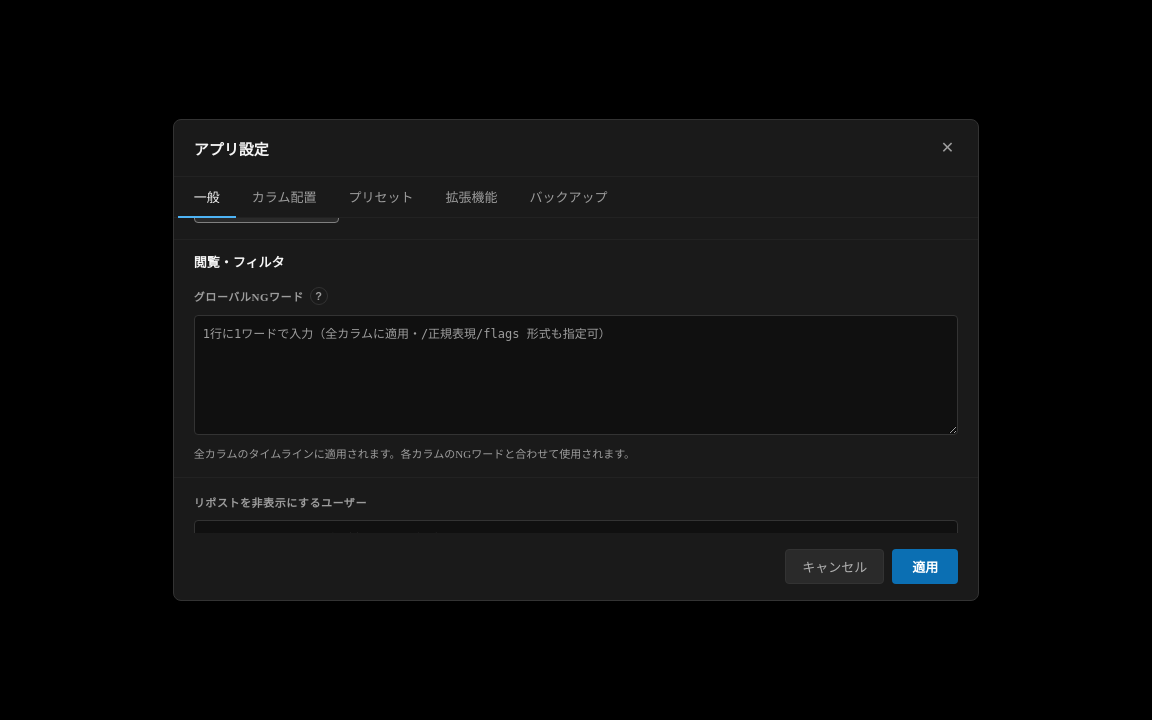
Test: AppSettingsPanel グローバルNGワード › 不正な正規表現を入力して適用すると、エラーメッセージが表示されonApplyもonCloseも呼ばれない
(page scrolled)
Type "/[ [/" into the text box with placeholder "1行に1ワードで入力（全カラムに適用・/正規表現/flags 形式も指定可）".
click(576, 375); type("/[ [/")  # box top-left (194, 315), bottom-right (958, 435)
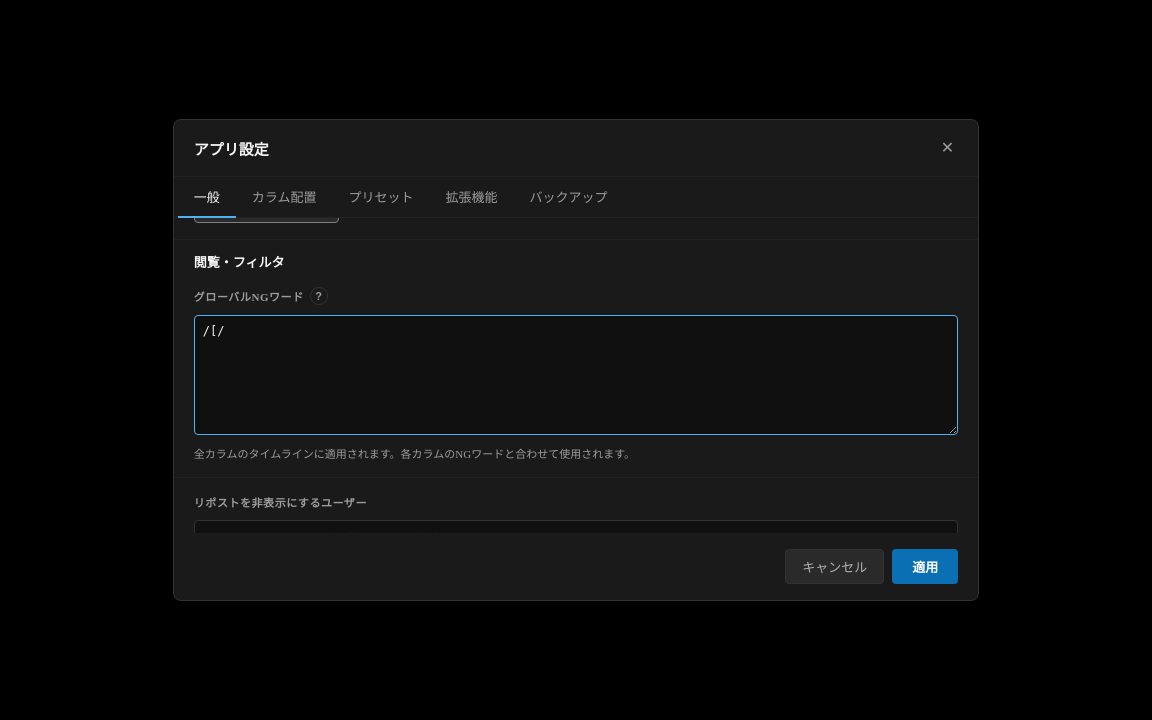
Click the button "適用".
click(925, 566)  # box top-left (892, 549), bottom-right (958, 584)
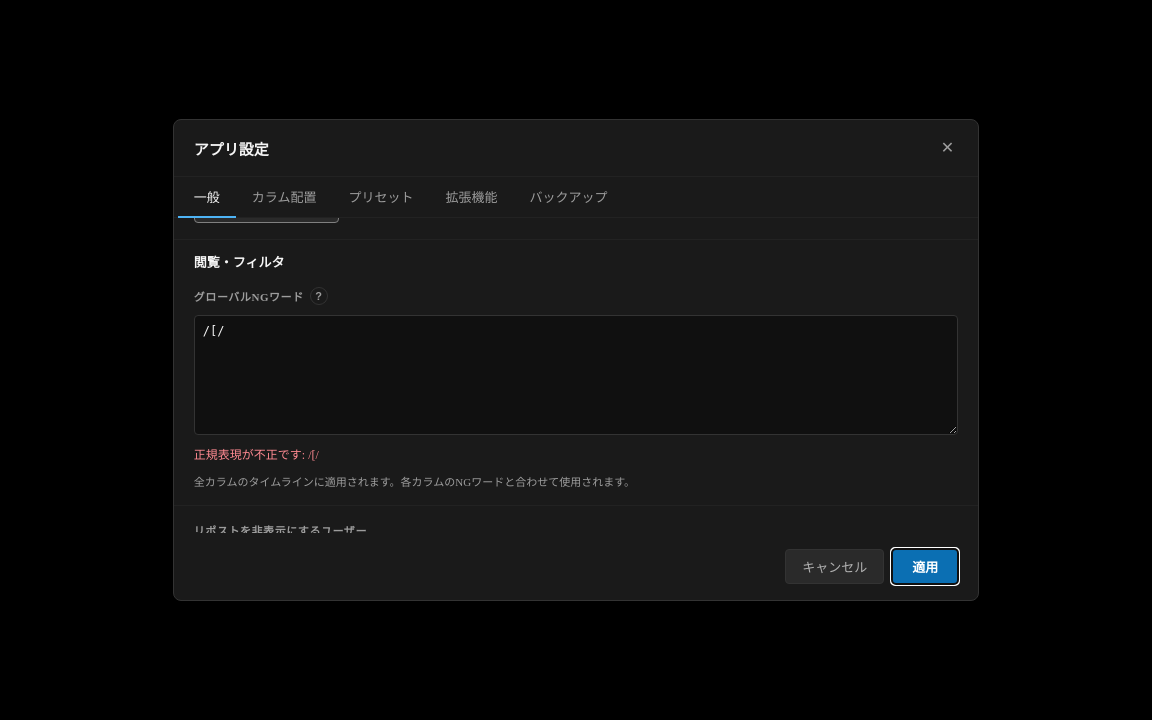
Now the text "正規表現が不正です: /[/" is shown, box top-left (194, 448), bottom-right (319, 462)
